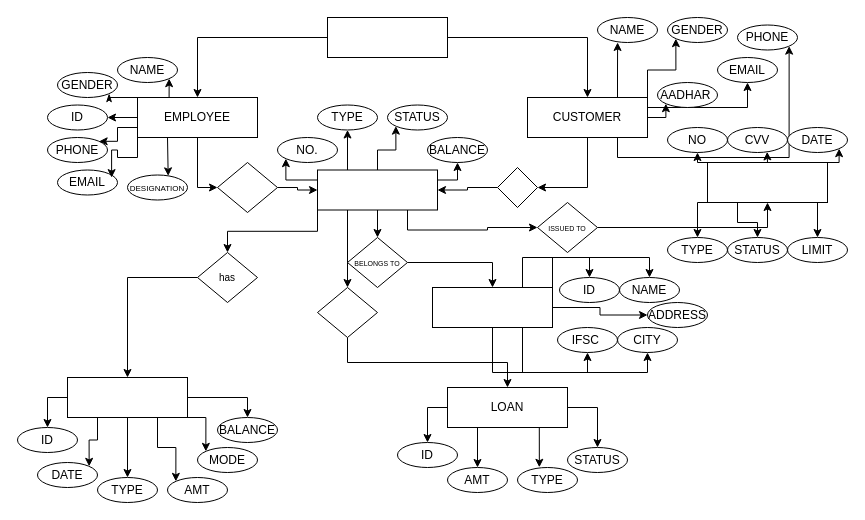
Image size: 865x520. Some labels were removed from this diagram. The centre of each missing label's shape, as x and y in pixels:
ACCOUNT: pixel 377 189
APPLIES FOR: pixel 347 312
BANK: pixel 387 37
BRANCH: pixel 492 307
CARD: pixel 767 182
OPERATES: pixel 247 187
OW NS: pixel 517 187
TRANSACTION: pixel 127 397
